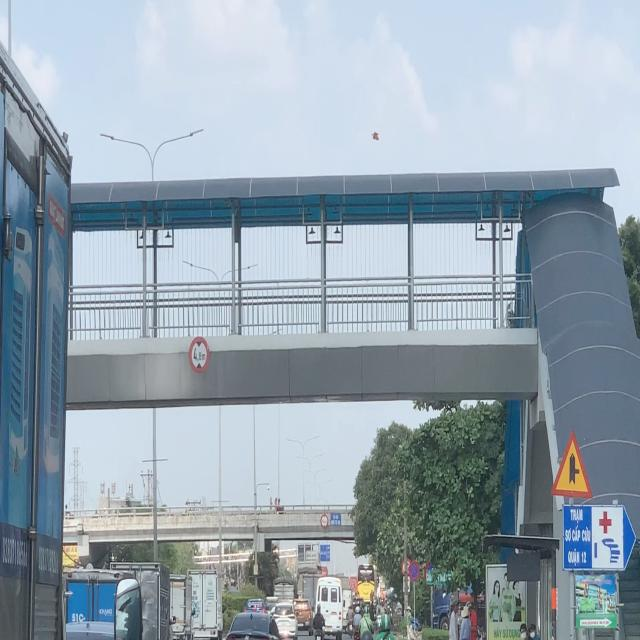Cam dung va do: (407, 558, 421, 583)
Chieu cao toi da: (189, 336, 210, 373)
Giao voi duong khong uu tien: (548, 427, 595, 501)
